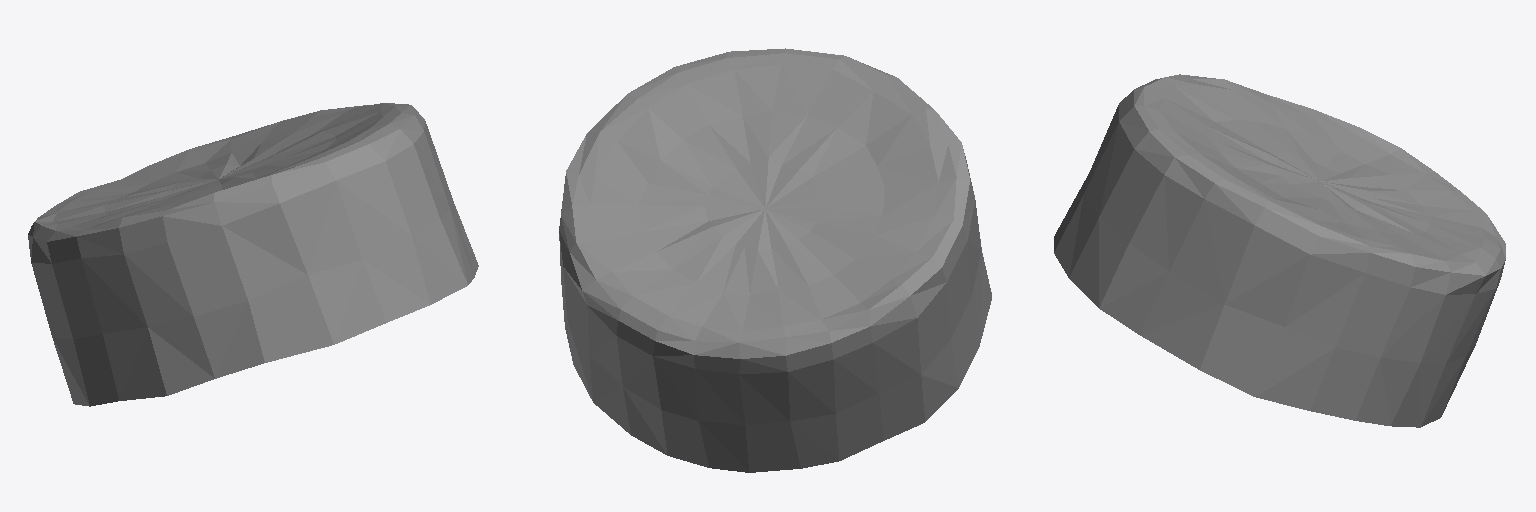
Rendered from right_home_button.obj.
3 views of the same model, side by side, from view 1: azimuth 30°, elevation 25°; view 2: azimuth 150°, elevation 25°; view 3: azimuth 270°, elevation 25° (orthographic).
Parts seen in each view (by area): view 1: right_home_button Mesh; view 2: right_home_button Mesh; view 3: right_home_button Mesh.
Boxes of the visible parts, x1,y1,x2,y2 form: right_home_button Mesh: [28, 103, 478, 406]; right_home_button Mesh: [559, 48, 991, 472]; right_home_button Mesh: [1054, 74, 1505, 427].
Bounding box in the file's own units: 0.0088 × 0.0065 × 0.009.